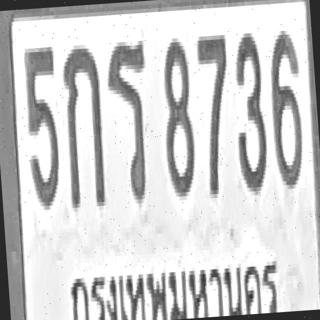A01: (60, 40, 108, 208)
A35: (104, 34, 154, 203)
N03: (230, 28, 269, 192)
N05: (22, 43, 63, 206)
N06: (266, 28, 306, 187)
N07: (195, 29, 235, 196)
N08: (158, 36, 196, 195)
P04: (60, 242, 284, 320)
